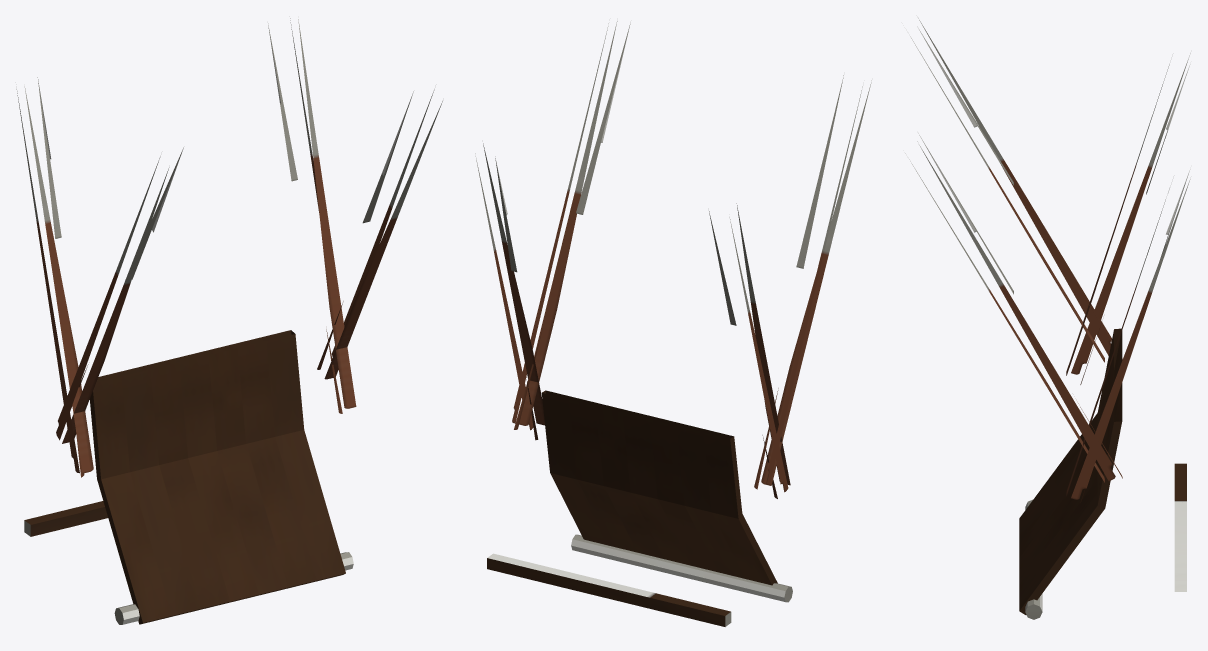
3 views of the same model, side by side, from view 1: azimuth 30°, elevation 25°; view 2: azimuth 150°, elevation 25°; view 3: azimuth 270°, elevation 25° (orthographic). The views are drawn at different scales.
Size of the model in its own units: 0.7291 by 1.34 by 0.7108.
